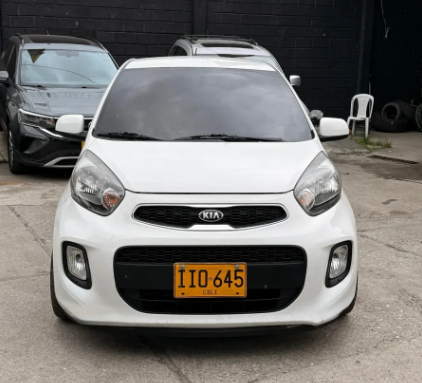placa: (173, 263, 248, 298)
